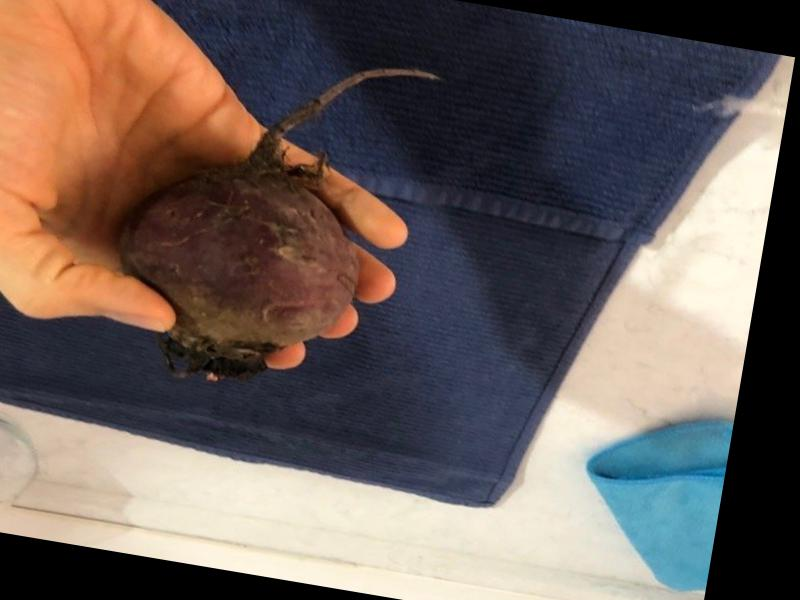Beet: (96, 25, 445, 410)
